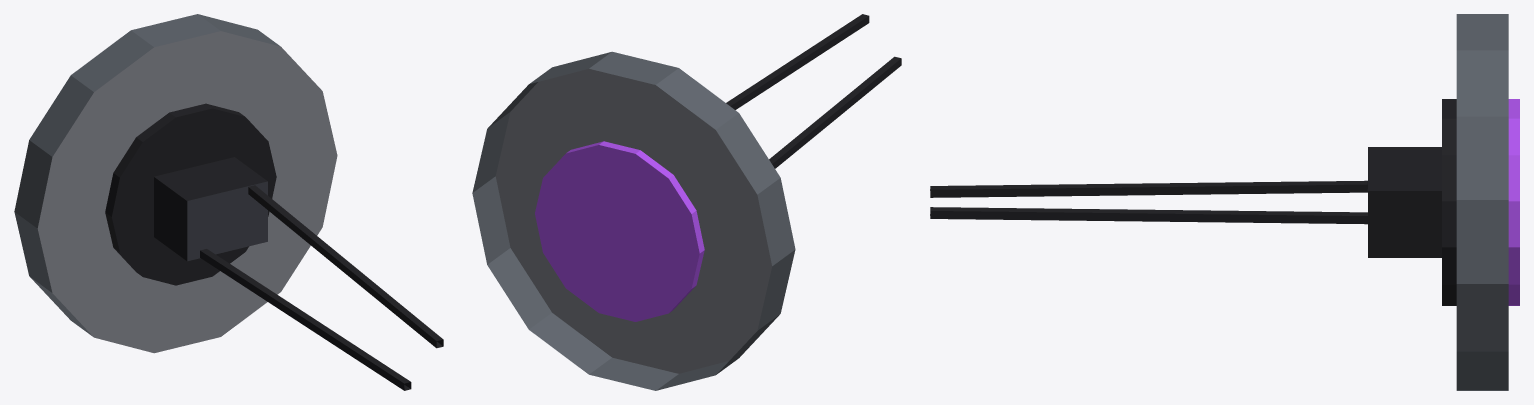
The model's file is b_lamp_basic.obj.
3 views of the same model, side by side, from view 1: azimuth 30°, elevation 25°; view 2: azimuth 150°, elevation 25°; view 3: azimuth 270°, elevation 25° (orthographic). The views are drawn at different scales.
Size of the model in its own units: 0.52 by 0.507 by 0.7953.
Materials: 1 (1 with a texture image).
